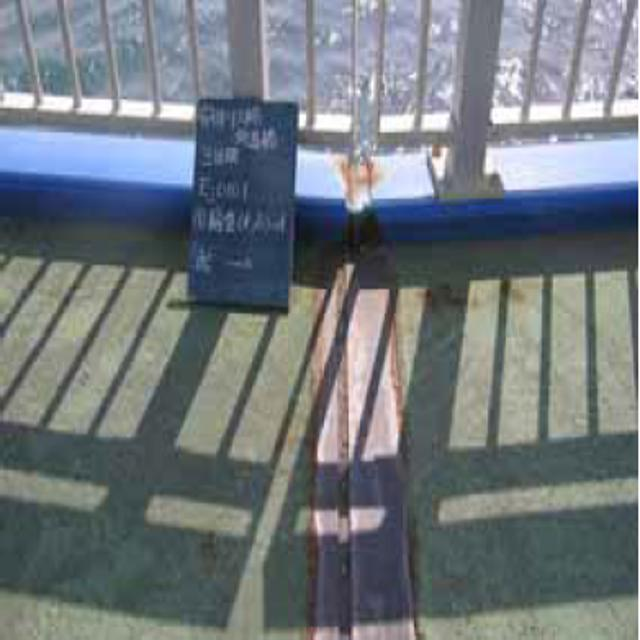corrosion: (311, 145, 424, 640)
